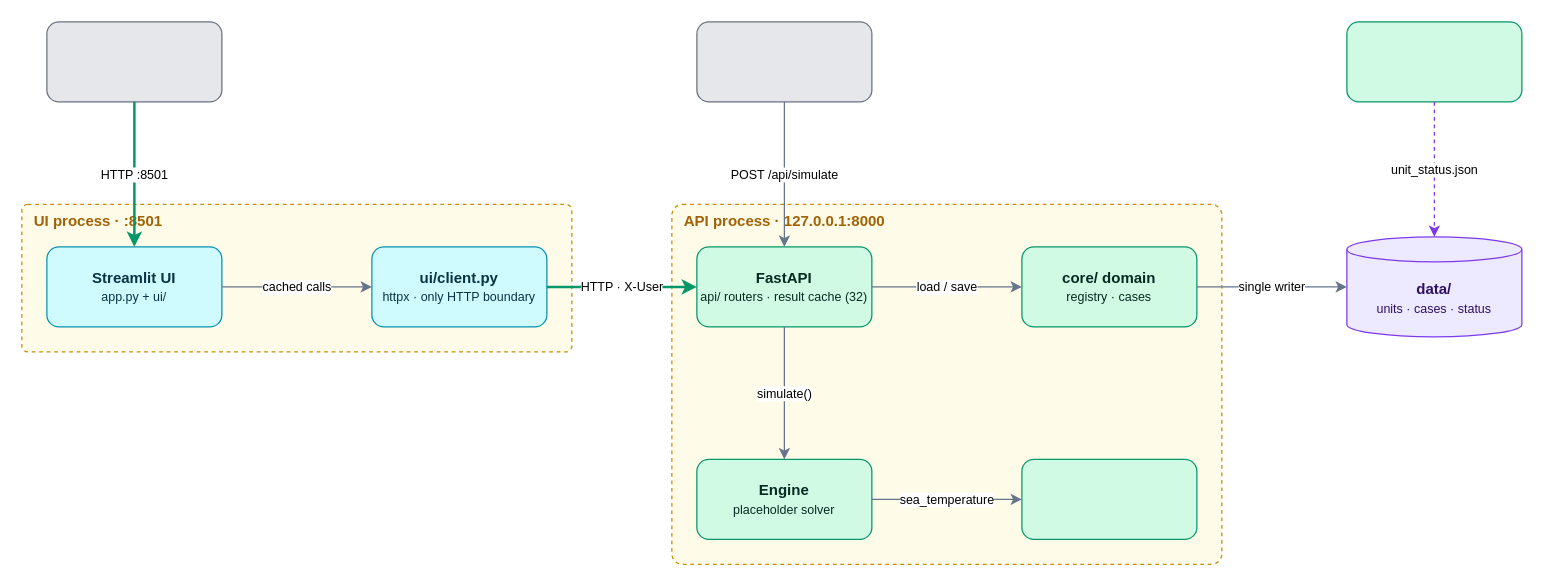
Some shapes in this 1544 by 586 pixel diagram are drawn without their labels. The centre of each missing label's shape, as x and y in pixels:
"asana_sync cron 06:00 (stub)" goes at point (1434, 61).
"Browser engineers" goes at point (134, 61).
"OrcaFlex EF external function" goes at point (784, 61).
"physics ×6 ported modules" goes at point (1109, 498).
